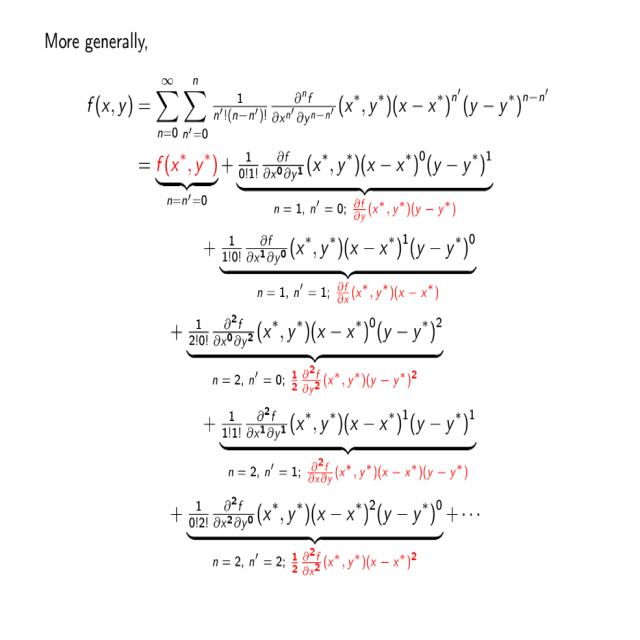equations: (83, 68, 552, 580)
